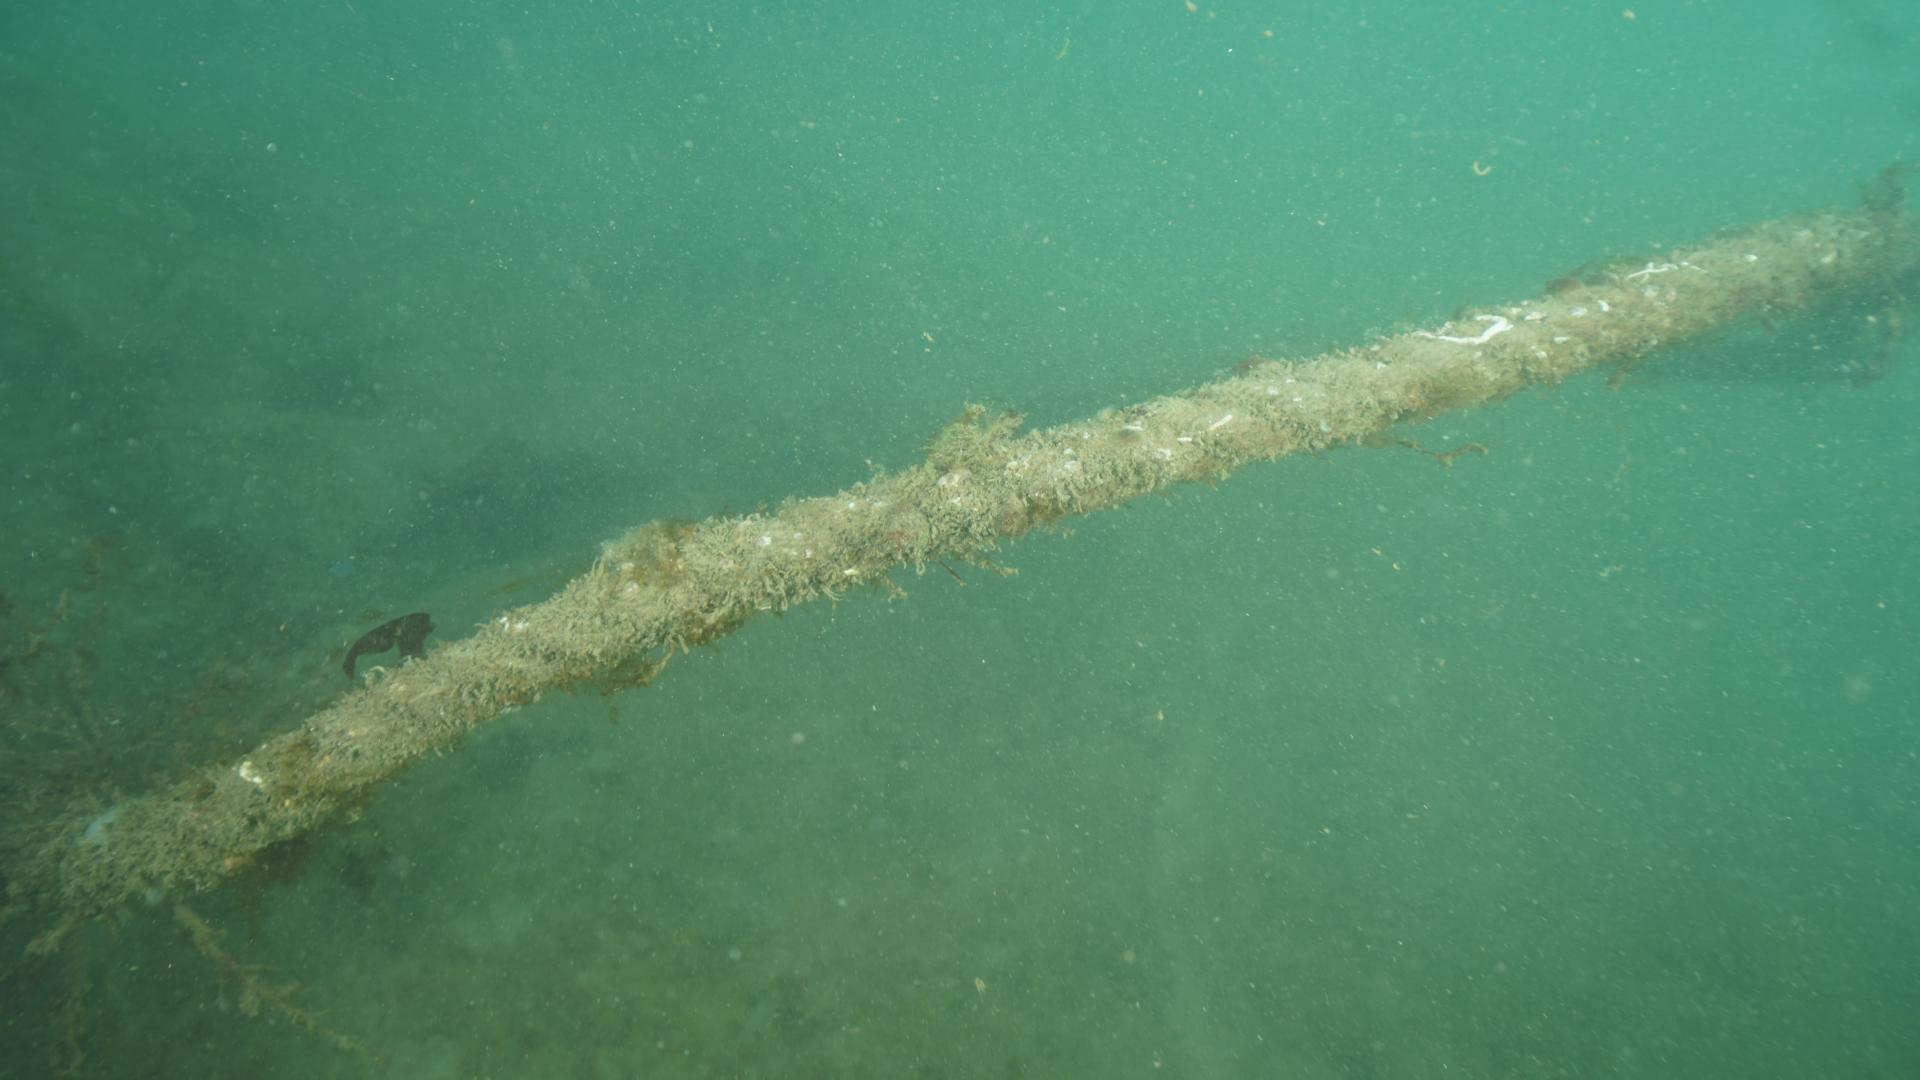rope: (67, 165, 1920, 919)
